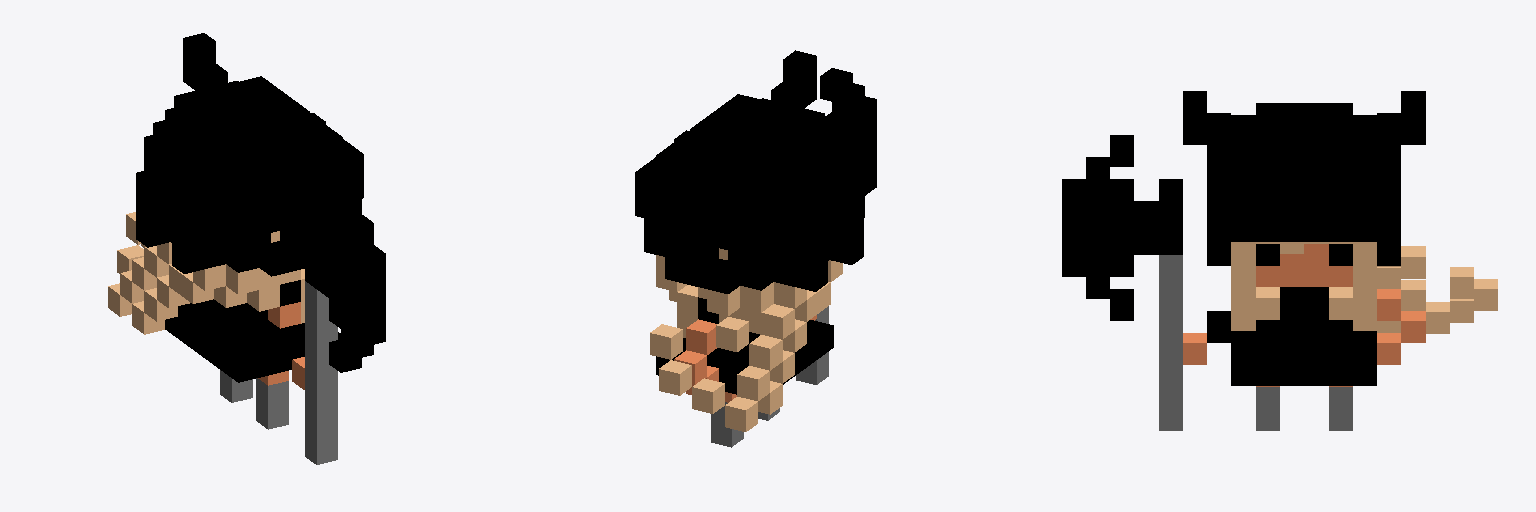
3 renders of one model, left to right at view 1: azimuth 30°, elevation 25°; view 2: azimuth 150°, elevation 25°; view 3: azimuth 270°, elevation 25°, orthographic.
Parts seen in each view (by area): view 1: object 1; view 2: object 1; view 3: object 1.
Part boxes in pixels (left/top/right/bottom): object 1: left=108, top=33, right=385, bottom=464; object 1: left=635, top=50, right=876, bottom=447; object 1: left=1062, top=91, right=1497, bottom=430.
Size of the model in its own units: 0.8 by 1.5 by 1.8.
Materials: 1 (1 with a texture image).